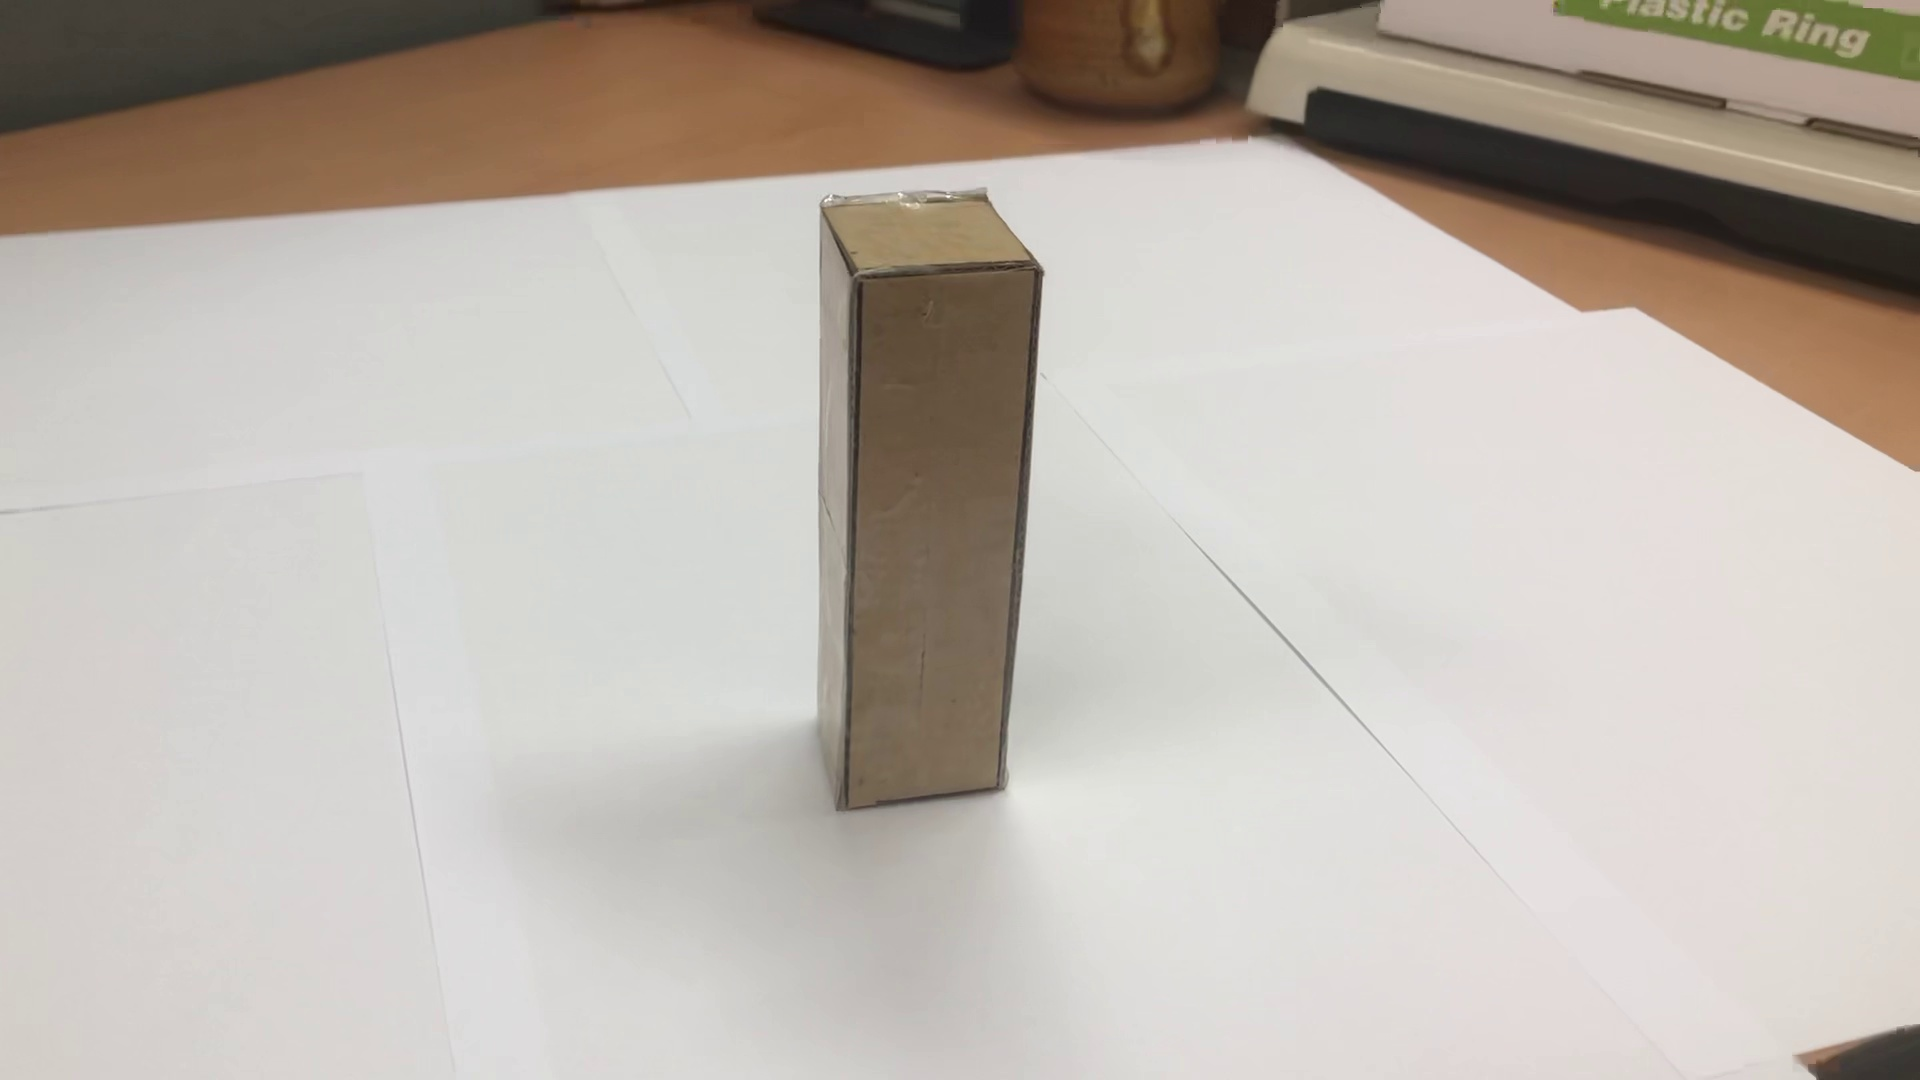box: (781, 177, 1063, 827)
